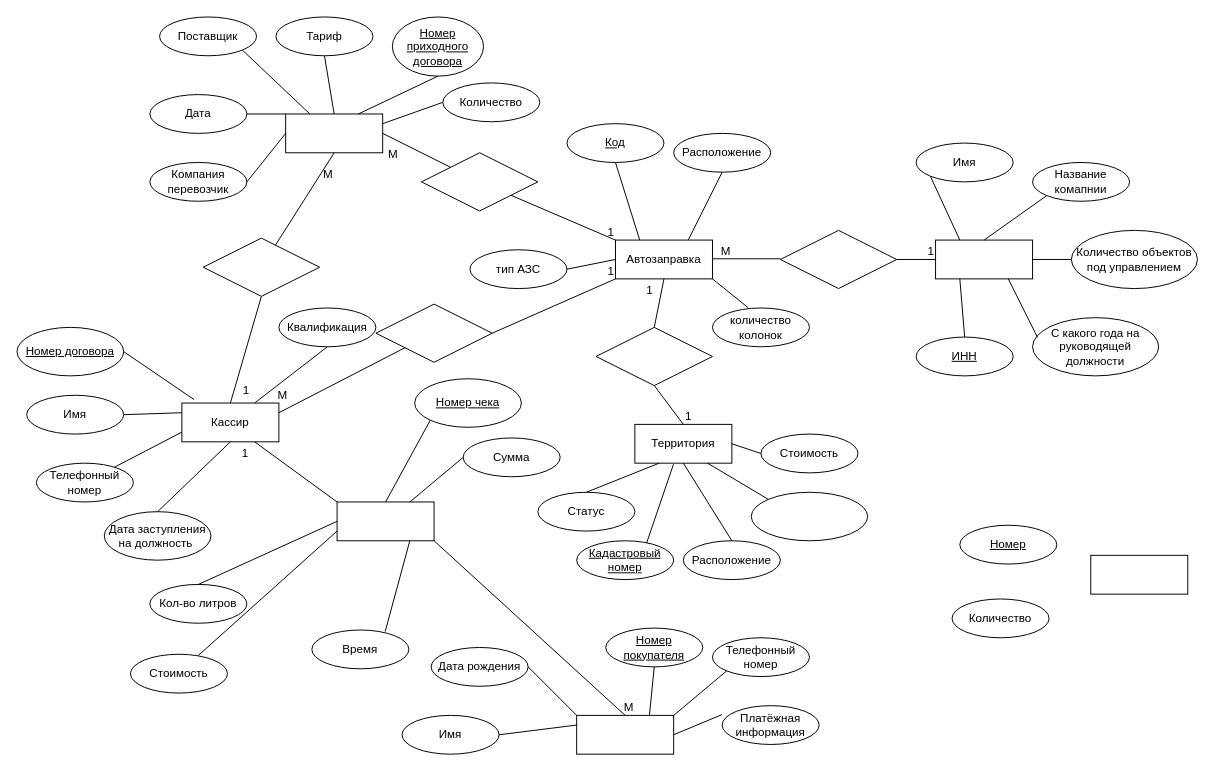
Image size: 1214x771. Some labels were removed from this diagram. The box of each missing label's shape, as (x1, y1, x2, y2) in pixels:
Владеет: (779, 229, 897, 289)
Владелец: (935, 239, 1033, 279)
Клиент: (576, 714, 674, 754)
Наличие: (420, 152, 538, 211)
Остаток: (1090, 554, 1188, 594)
Приход топлива: (285, 113, 383, 153)
Продажа: (202, 237, 320, 296)
Работает: (375, 303, 492, 362)
Располагается: (595, 326, 712, 386)
Расход топлива: (336, 501, 434, 541)
Средний уровень машинопоотока: (750, 491, 868, 541)
